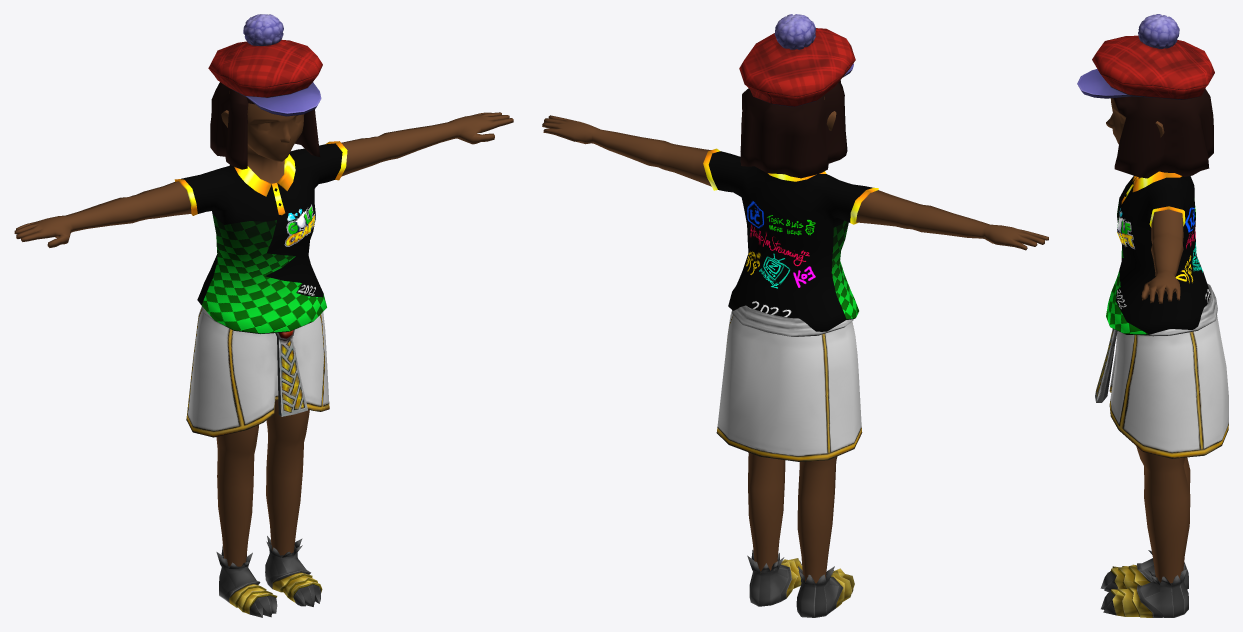
Rendered from TestNPCs_05.glb.
3 views of the same model, side by side, from view 1: azimuth 30°, elevation 25°; view 2: azimuth 150°, elevation 25°; view 3: azimuth 270°, elevation 25° (orthographic).
Visible parts, largest first — view 1: F_tshirt_golfcraft, F_Bastet_Lowerbody, F_golfcraft_cap, F_Anubis_Feet, F_Hair_ShoulderBobHair, F_Head_BaseMesh.004; view 2: F_Bastet_Lowerbody, F_tshirt_golfcraft, F_Hair_ShoulderBobHair, F_golfcraft_cap, F_Anubis_Feet; view 3: F_Bastet_Lowerbody, F_tshirt_golfcraft, F_golfcraft_cap, F_Hair_ShoulderBobHair, F_Anubis_Feet, F_Head_BaseMesh.004.
Part boxes in pixels (x1,y1,x2,y2): F_tshirt_golfcraft: (14,112,513,333); F_Bastet_Lowerbody: (186,306,329,566); F_golfcraft_cap: (208,14,322,116); F_Anubis_Feet: (216,536,322,617); F_Hair_ShoulderBobHair: (210,82,320,169); F_Head_BaseMesh.004: (221,91,304,183); F_Bastet_Lowerbody: (716,305,862,583); F_tshirt_golfcraft: (542,115,1048,331); F_Hair_ShoulderBobHair: (740,80,847,178); F_golfcraft_cap: (739,14,855,107); F_Anubis_Feet: (747,550,854,617); F_Bastet_Lowerbody: (1095,283,1228,583); F_tshirt_golfcraft: (1106,171,1210,334); F_golfcraft_cap: (1077,14,1214,99); F_Hair_ShoulderBobHair: (1113,89,1213,178); F_Anubis_Feet: (1100,543,1188,617); F_Head_BaseMesh.004: (1106,98,1164,178).
Size of the model in its own units: 1.9 by 2.12 by 0.5008.
Materials: 6 (4 with a texture image).
